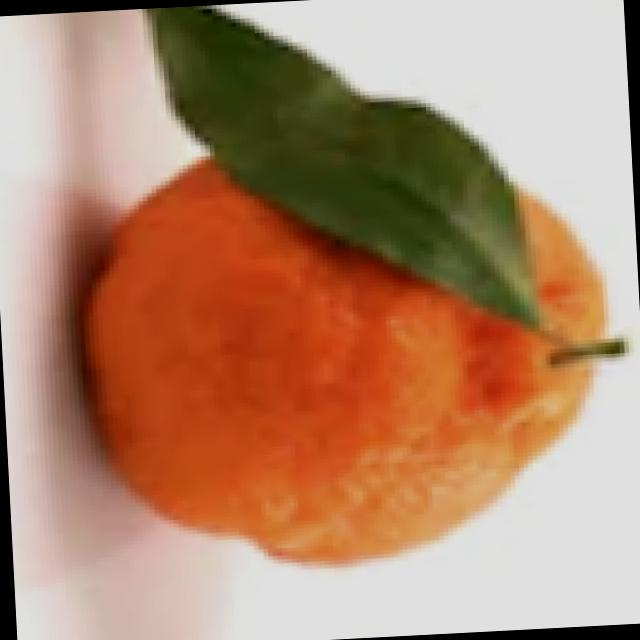orange: (66, 124, 624, 582)
